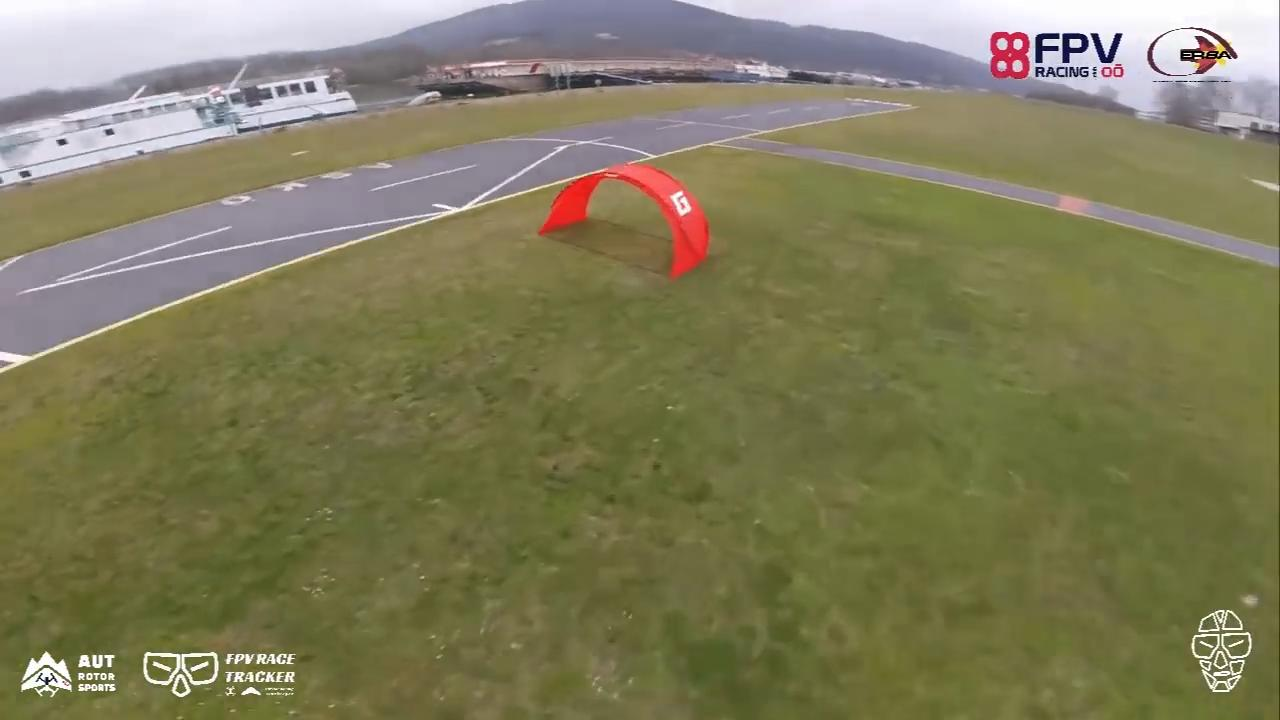gate: (535, 161, 711, 281)
